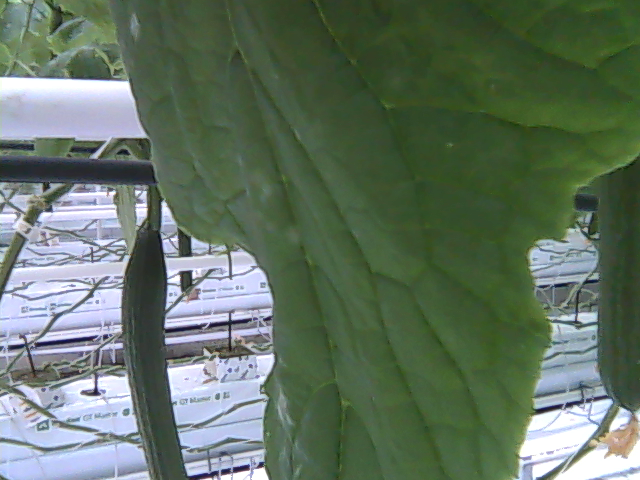concombre: (120, 220, 193, 480), (596, 158, 640, 459)
